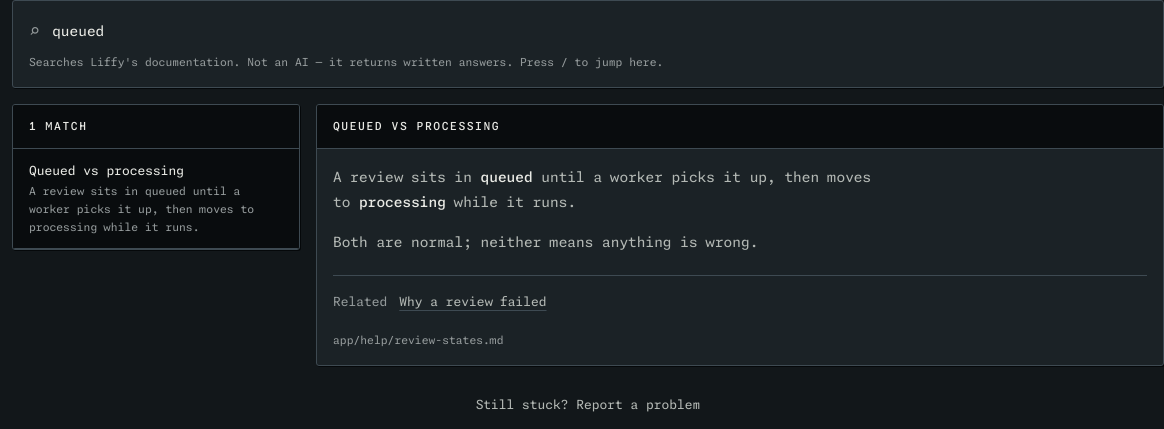
it: Help › moves between passages through the related links
Expected: the element named "Answer" shows "until a worker picks it up", [333,169,871,210]
Click the button "Why a review failed": (473, 302) [399,292,547,312]
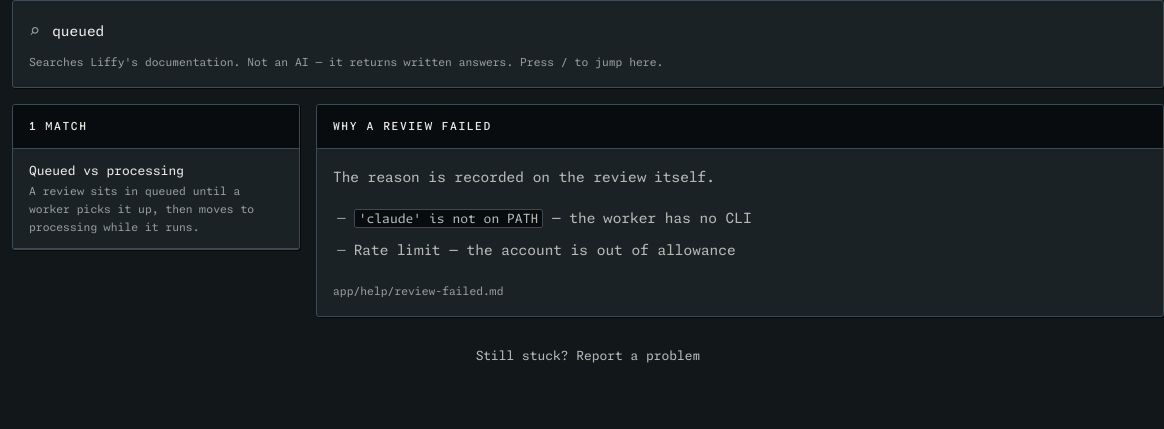
Expected: the element named "Answer" shows "The reason is recorded on the review itself", [333,169,715,185]
